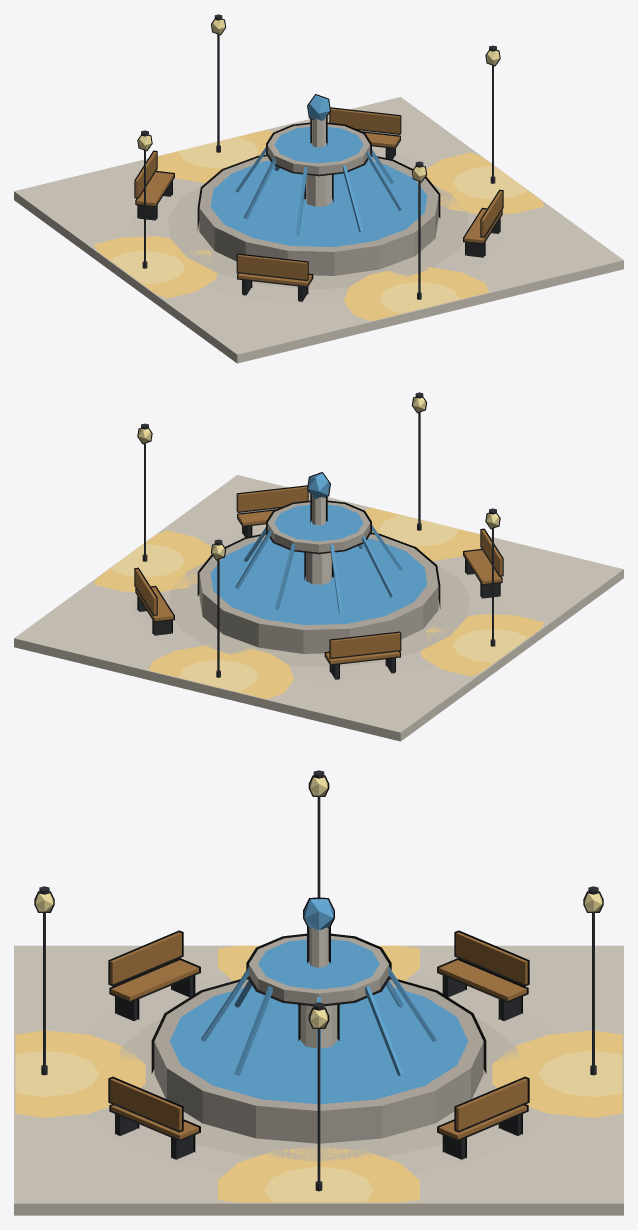
Rendered from Meydan_cesme.fbx.
3 views of the same model, one above another, from view 1: azimuth 30°, elevation 25°; view 2: azimuth 150°, elevation 25°; view 3: azimuth 270°, elevation 25° (orthographic). The views are drawn at different scales.
Visible parts, largest first — view 1: Meydan_cesme; view 2: Meydan_cesme; view 3: Meydan_cesme.
Part boxes in pixels (bbox=[...]): Meydan_cesme: bbox=[14, 14, 623, 363]; Meydan_cesme: bbox=[14, 392, 623, 741]; Meydan_cesme: bbox=[14, 770, 623, 1215].
Bounding box in the file's own units: 10 × 3.58 × 10.
